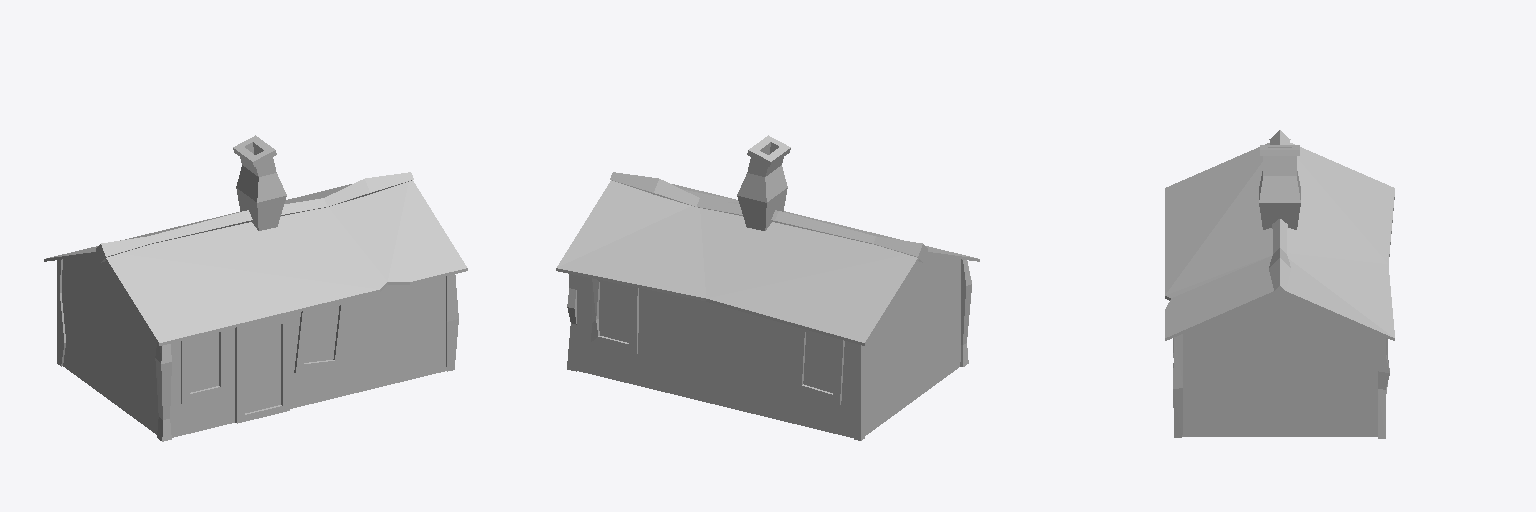
The model's file is BG_House_3.obj.
3 renders of one model, left to right at view 1: azimuth 30°, elevation 25°; view 2: azimuth 150°, elevation 25°; view 3: azimuth 270°, elevation 25°, orthographic.
Parts seen in each view (by area): view 1: House_Standard_02; view 2: House_Standard_02; view 3: House_Standard_02.
Boxes of the visible parts, x1=… form: House_Standard_02: x1=44, y1=135, x2=467, y2=441; House_Standard_02: x1=556, y1=135, x2=979, y2=440; House_Standard_02: x1=1165, y1=130, x2=1394, y2=438.
Bounding box in the file's own units: 86.18 × 58.85 × 55.41.